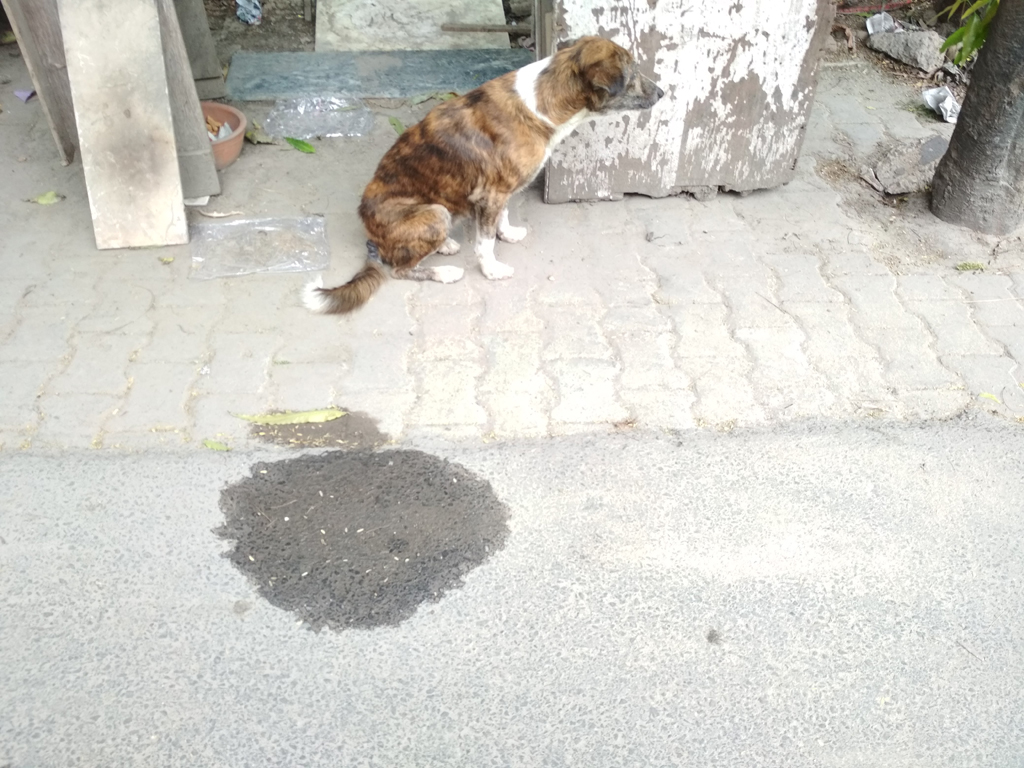dog: (300, 36, 667, 315)
